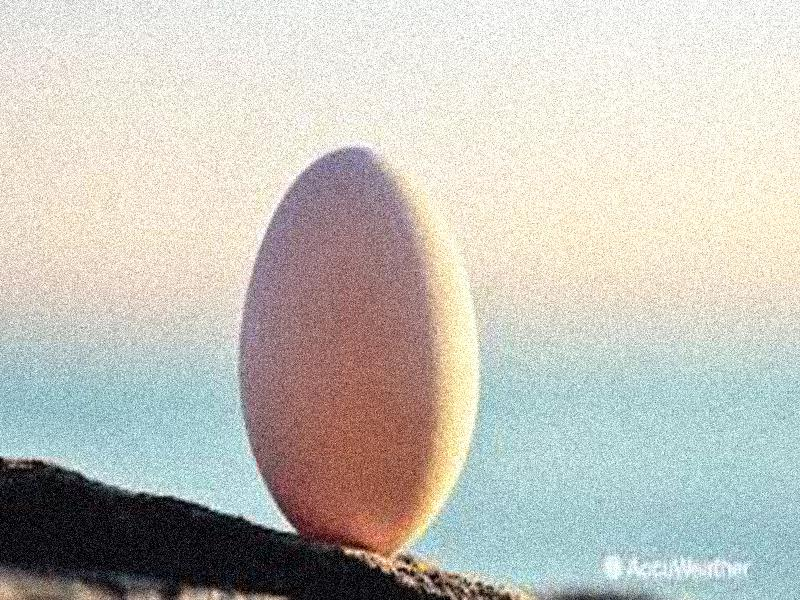Eggs: (237, 143, 480, 550)
